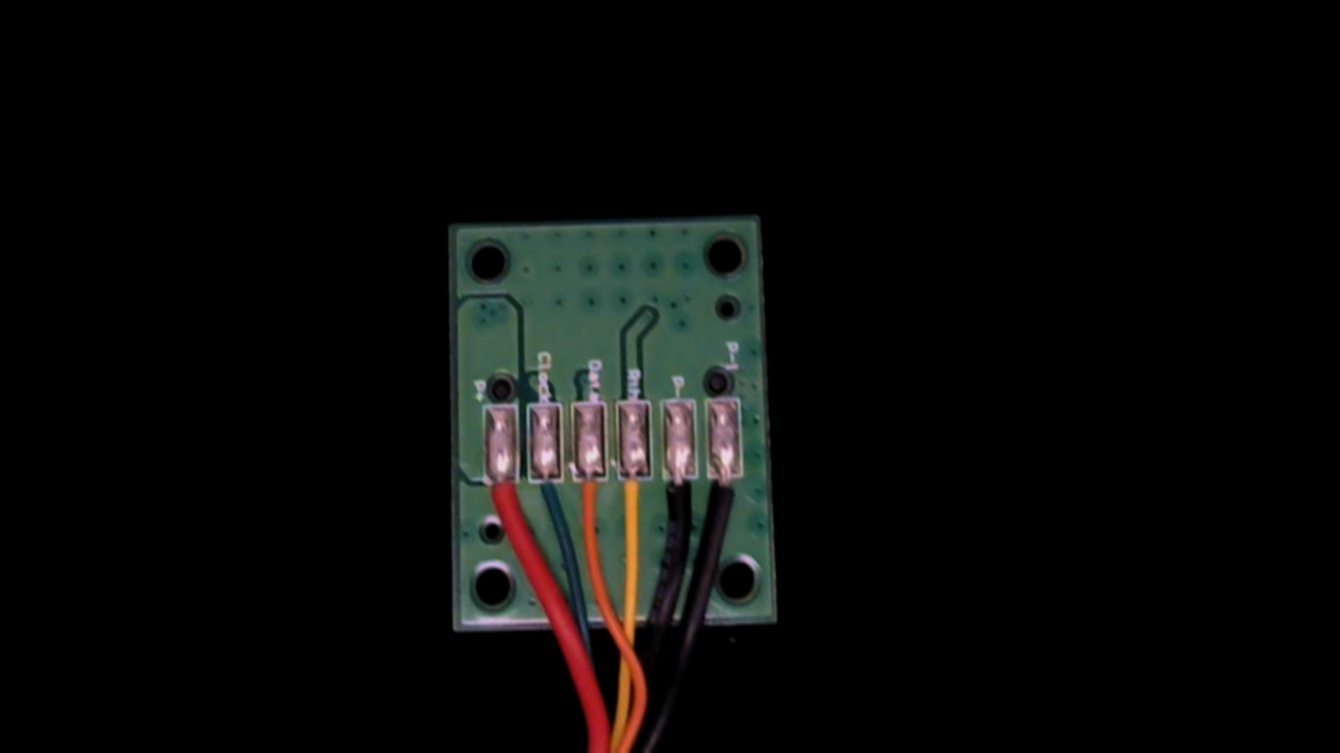Black: (659, 455, 701, 547)
Black1: (706, 456, 747, 541)
Green: (527, 455, 560, 529)
Orange: (571, 461, 608, 549)
Red: (482, 459, 521, 547)
Yellow: (614, 458, 655, 551)
